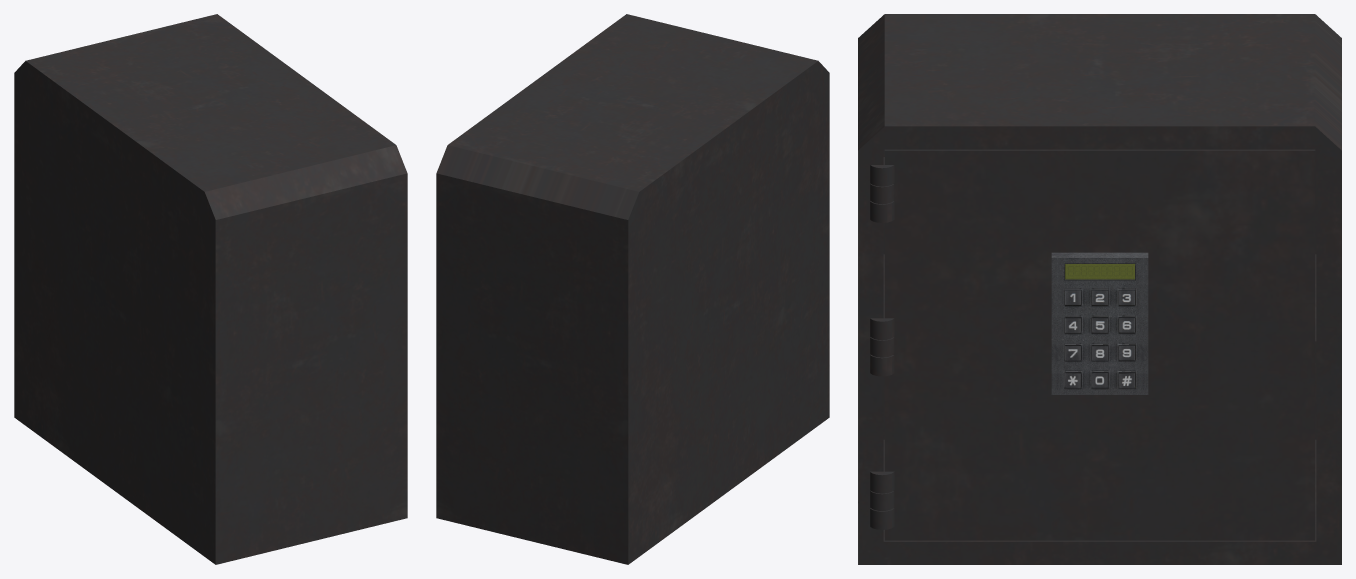
Rendered from Safe.fbx.
3 views of the same model, side by side, from view 1: azimuth 30°, elevation 25°; view 2: azimuth 150°, elevation 25°; view 3: azimuth 270°, elevation 25° (orthographic). The views are drawn at different scales.
Visible parts, largest first — view 1: Safe; view 2: Safe; view 3: Safe Door, Safe.
Part boxes in pixels (<box>): Safe: <box>14,14,407,564</box>; Safe: <box>436,14,829,564</box>; Safe Door: <box>870,149,1315,540</box>; Safe: <box>858,14,1341,564</box>.
Bounding box in the file's own units: 58.17 × 100 × 100.
